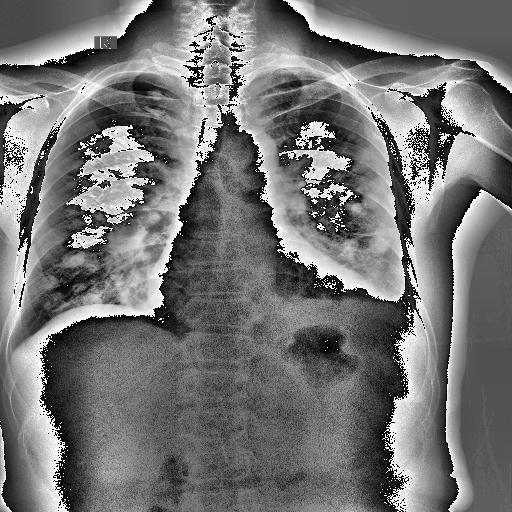0- Aortic enlargement: (220, 130, 282, 182)
10- Pleural effusion: (367, 281, 414, 335), (380, 279, 417, 336), (374, 279, 416, 313)
11- Pleural thickening: (380, 279, 417, 336)
3- Cardiomegaly: (146, 255, 390, 342), (142, 272, 372, 348), (146, 266, 394, 331)
7- Lung Opacity: (38, 86, 161, 308)
8- Nodule-Mass: (39, 92, 162, 320), (38, 86, 161, 308), (290, 122, 404, 278), (345, 126, 393, 276), (368, 229, 396, 252), (62, 248, 86, 267), (137, 210, 160, 228), (82, 293, 103, 310), (95, 134, 114, 148), (364, 192, 380, 208), (340, 237, 358, 251), (41, 276, 60, 288), (346, 200, 361, 215), (68, 204, 82, 218), (69, 161, 84, 174), (148, 88, 162, 100), (109, 165, 121, 174)
